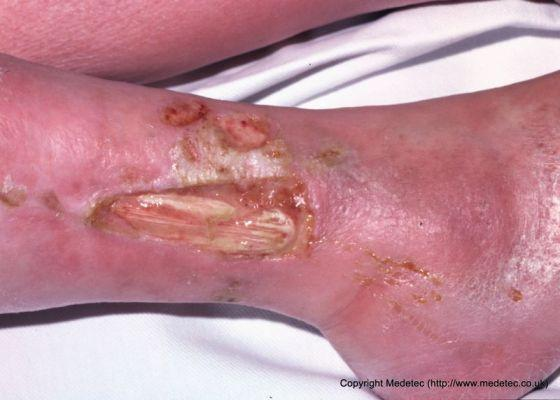NonPU: (65, 98, 387, 290)
